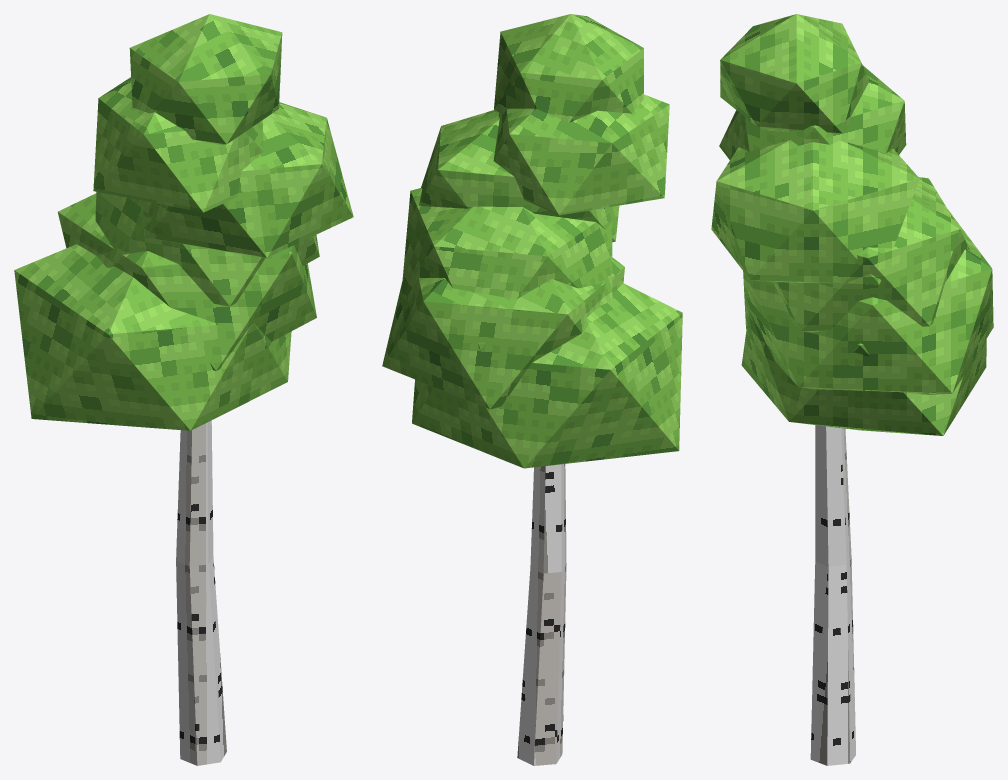
Rendered from birch1.glb.
3 renders of one model, left to right at view 1: azimuth 30°, elevation 25°; view 2: azimuth 150°, elevation 25°; view 3: azimuth 270°, elevation 25°, orthographic. The views are drawn at different scales.
Parts seen in each view (by area): view 1: birch1; view 2: birch1; view 3: birch1.
Boxes of the visible parts, left/top/right/bottom form: birch1: left=14, top=14, right=353, bottom=765; birch1: left=382, top=14, right=682, bottom=765; birch1: left=711, top=14, right=993, bottom=765.
Bounding box in the file's own units: 2.62 × 6.92 × 2.4.
2 materials, 2 textured.
